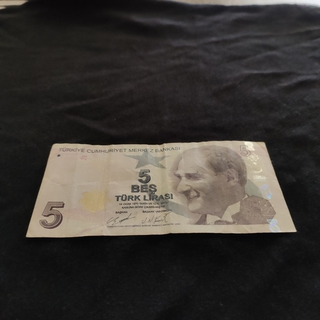5TLFront: (25, 141, 297, 240)
